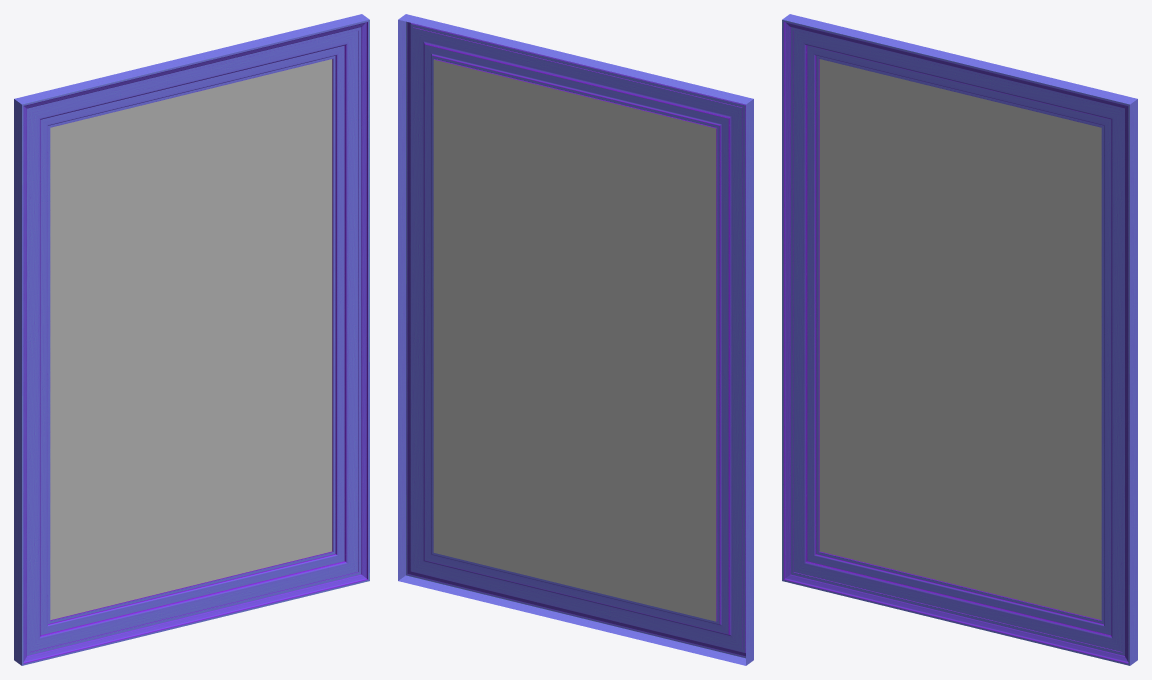
3 views of the same model, side by side, from view 1: azimuth 30°, elevation 25°; view 2: azimuth 150°, elevation 25°; view 3: azimuth 330°, elevation 25° (orthographic).
Parts seen in each view (by area): view 1: _09_02, _09_02_frame; view 2: _09_02, _09_02_frame; view 3: _09_02, _09_02_frame.
Boxes of the visible parts, <box> form: _09_02: <box>50,59,332,619</box>; _09_02_frame: <box>14,14,369,665</box>; _09_02: <box>433,59,716,621</box>; _09_02_frame: <box>398,14,753,665</box>; _09_02: <box>819,59,1101,619</box>; _09_02_frame: <box>782,14,1137,665</box>.
Size of the model in its own units: 203 by 313 by 7.85.
